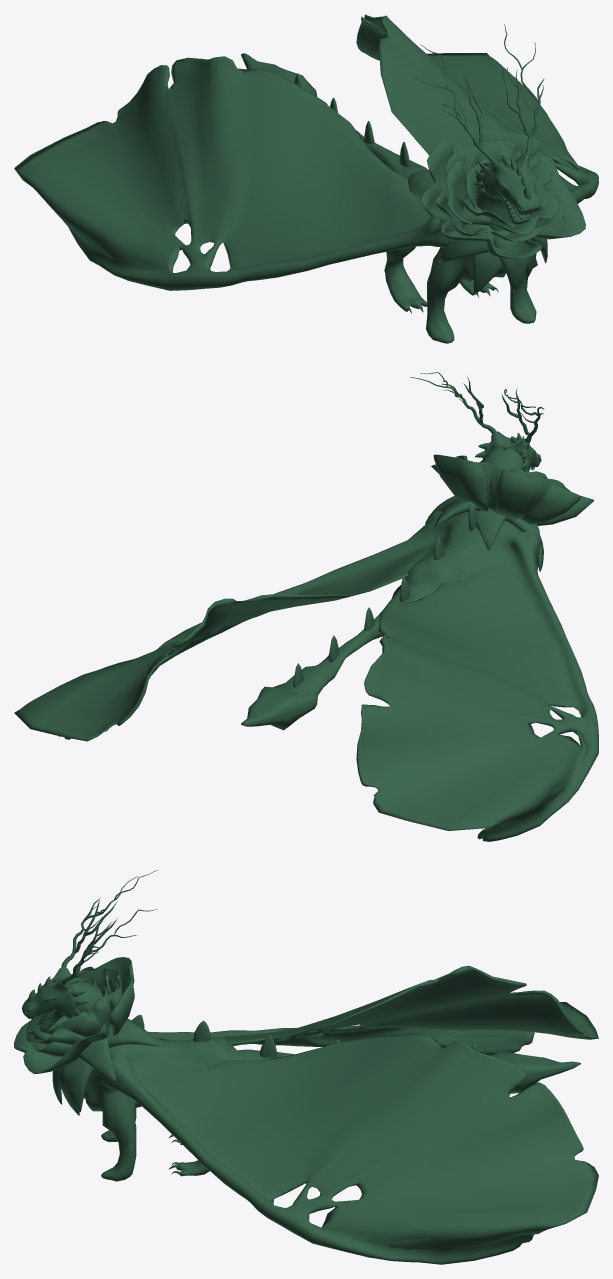
Rendered from DragonPLay.fbx.
3 views of the same model, one above another, from view 1: azimuth 30°, elevation 25°; view 2: azimuth 150°, elevation 25°; view 3: azimuth 270°, elevation 25° (orthographic). The views are drawn at different scales.
Visible parts, largest first — view 1: MainBodyLow; view 2: MainBodyLow; view 3: MainBodyLow.
Part boxes in pixels (x1,y1,x2,y2): MainBodyLow: [14, 14, 598, 343]; MainBodyLow: [14, 372, 598, 841]; MainBodyLow: [14, 870, 598, 1264].
Bounding box in the file's own units: 579 × 325 × 639.
